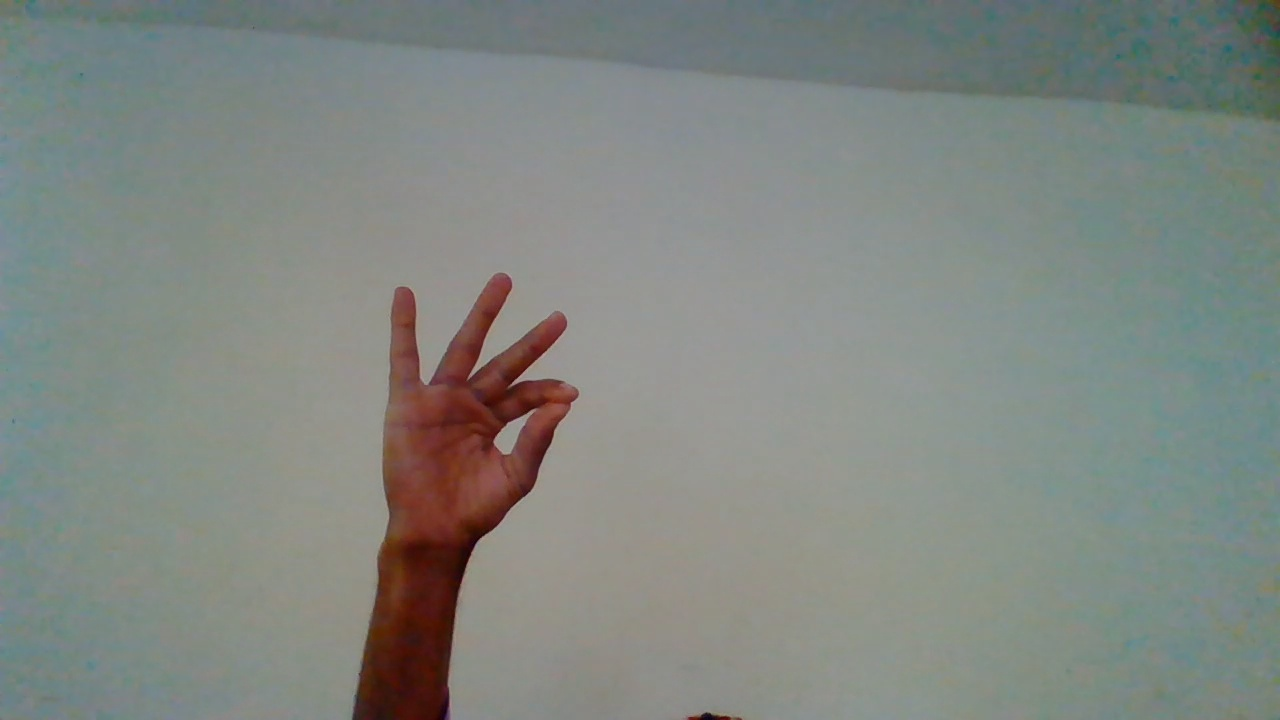le: (382, 272, 587, 664)
